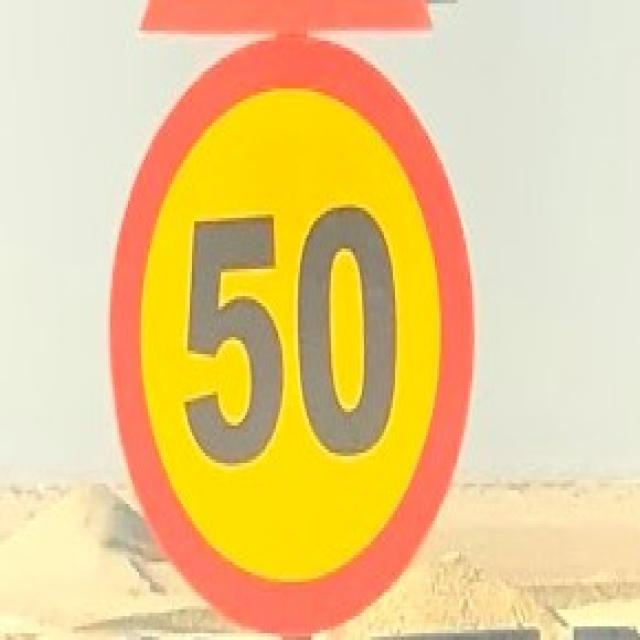Limite-50: (106, 33, 475, 635)
